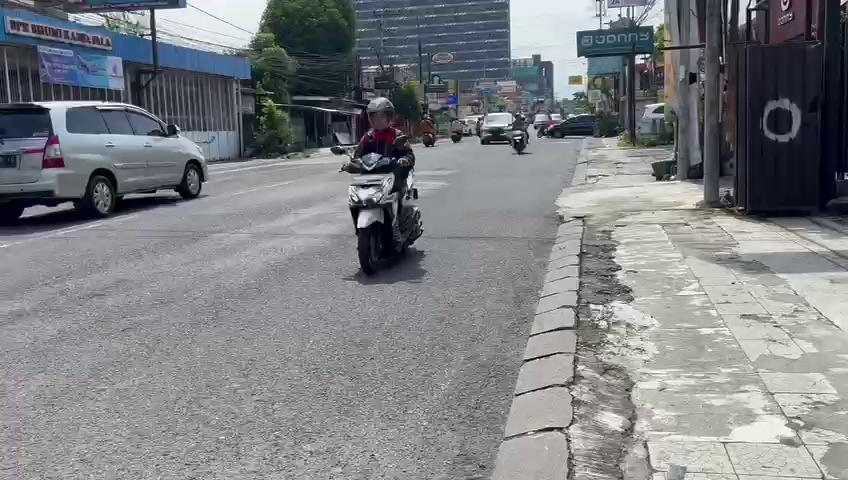helm: (363, 95, 398, 133)
riding: (338, 93, 431, 290)
